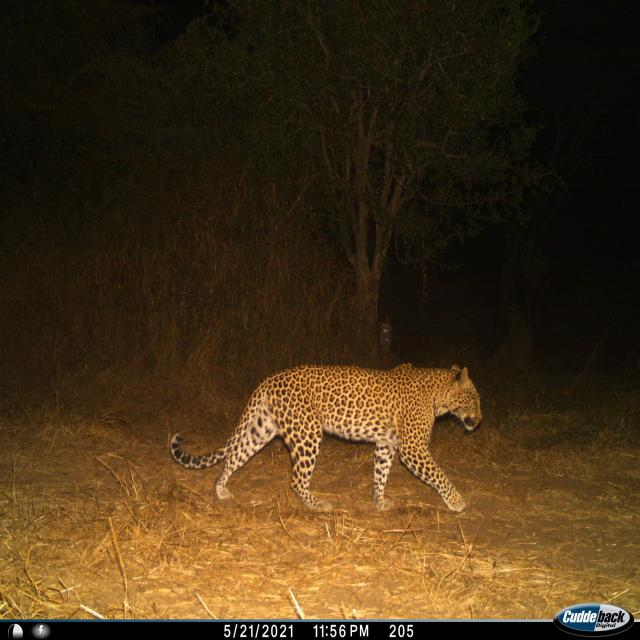Leopard: (173, 358, 489, 516)
